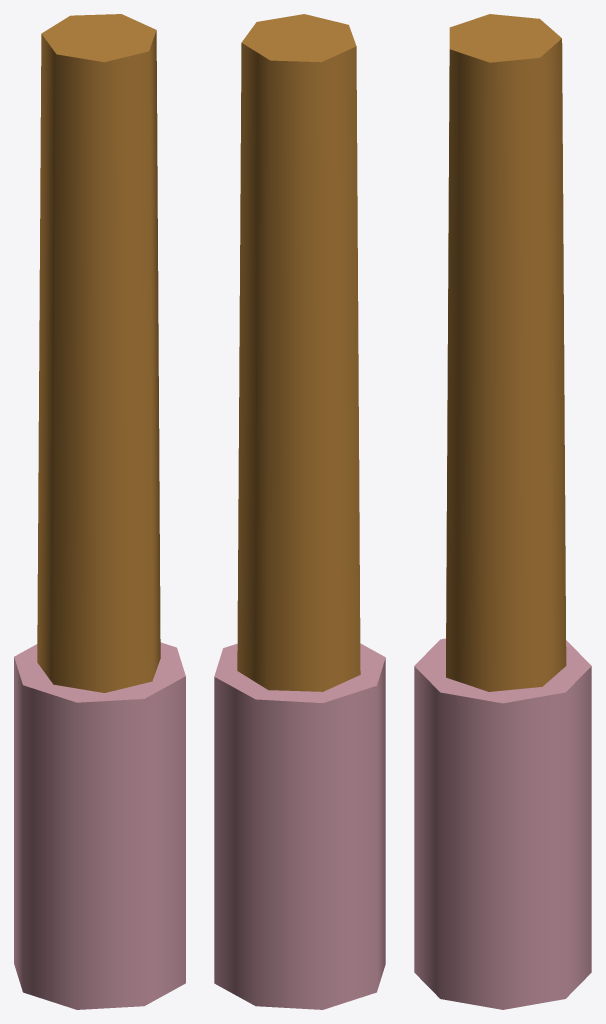
The model's file is item_churros.glb.
3 renders of one model, left to right at view 1: azimuth 30°, elevation 25°; view 2: azimuth 150°, elevation 25°; view 3: azimuth 270°, elevation 25°, orthographic.
Parts seen in each view (by area): view 1: item_churros; view 2: item_churros; view 3: item_churros.
Part boxes in pixels (x1,y1,x2,y2): item_churros: (14, 14, 185, 1009); item_churros: (214, 14, 385, 1009); item_churros: (414, 14, 591, 1009).
Bounding box in the file's own units: 0.06 × 0.3486 × 0.06.
